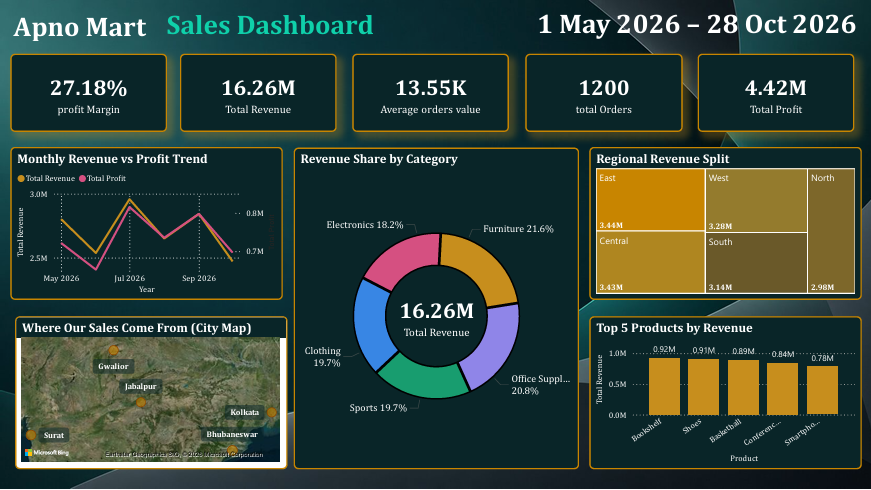

The page's visual inventory and layout, read from the dashboard file:
{"tool":"powerbi","page":{"name":"Revenue Overview","canvas":[1280,720],"ordinal":0},"visuals":[{"type":"card","fields":{"Values":["apnomart-sales-data.profit Margin"]},"box":[13.8,77.5,230,115],"z":0},{"type":"card","fields":{"Values":["apnomart-sales-data.total Orders"]},"box":[770,77.5,231.2,115],"z":1000},{"type":"card","fields":{"Values":["apnomart-sales-data.Total Profit"]},"box":[1022.5,77.5,230,115],"z":2000},{"type":"card","fields":{"Values":["apnomart-sales-data.Total Revenue"]},"box":[262.5,77.5,230,115],"z":3000},{"type":"card","fields":{"Values":["apnomart-sales-data.Average orders value"]},"box":[516.2,77.5,230,115],"z":4000},{"type":"lineChart","title":"Monthly Revenue vs Profit Trend","fields":{"Y":["apnomart-sales-data.Total Revenue"],"Y2":["apnomart-sales-data.Total Profit"],"Category":["apnomart-sales-data.Month.Variation.Date Hierarchy.Year","apnomart-sales-data.Month.Variation.Date Hierarchy.Month"]},"box":[13.8,215,400,225],"z":5000},{"type":"map","title":"Where Our Sales Come From (City Map)","fields":{"Category":["apnomart-sales-data.City"],"Size":["apnomart-sales-data.Total Revenue"]},"box":[21.2,463.8,400,225],"z":6000},{"type":"donutChart","title":"Revenue Share by Category","fields":{"Category":["apnomart-sales-data.Category"],"Y":["apnomart-sales-data.Total Revenue"]},"box":[430,216.2,418.8,472.5],"z":7000},{"type":"columnChart","title":"Top 5 Products by Revenue","fields":{"Category":["apnomart-sales-data.Product"],"Y":["apnomart-sales-data.Total Revenue"]},"box":[863.8,463.8,400,225],"z":8000},{"type":"treemap","title":"Regional Revenue Split","fields":{"Group":["apnomart-sales-data.Region"],"Values":["apnomart-sales-data.Total Revenue"]},"box":[863.8,215,400,225],"z":9000},{"type":"textbox","title":"Apno Mart","box":[13.6,13.6,207.6,45.5],"z":10000},{"type":"textbox","title":"Sales Dashboard","box":[237.9,10.6,316.7,50],"z":11000},{"type":"textbox","title":"1 May 2026 – 28 Oct 2026","box":[781.9,9.7,481.9,50],"z":12000},{"type":"card","fields":{"Values":["apnomart-sales-data.Total Revenue"]},"box":[573.8,415,132.5,97.5],"z":13000}]}

Visuals, with their boxes in screenshot pixels (x1, y1, x2, y2), scaled from the page's 1280x720 canvas onto the 871x490 screenshot:
card - apnomart-sales-data.profit Margin: bbox(9, 53, 166, 131)
card - apnomart-sales-data.total Orders: bbox(524, 53, 681, 131)
card - apnomart-sales-data.Total Profit: bbox(696, 53, 852, 131)
card - apnomart-sales-data.Total Revenue: bbox(179, 53, 335, 131)
card - apnomart-sales-data.Average orders value: bbox(351, 53, 508, 131)
"Monthly Revenue vs Profit Trend" lineChart: bbox(9, 146, 282, 299)
"Where Our Sales Come From (City Map)" map: bbox(14, 316, 287, 469)
"Revenue Share by Category" donutChart: bbox(293, 147, 578, 469)
"Top 5 Products by Revenue" columnChart: bbox(588, 316, 860, 469)
"Regional Revenue Split" treemap: bbox(588, 146, 860, 299)
"Apno Mart" textbox: bbox(9, 9, 151, 40)
"Sales Dashboard" textbox: bbox(162, 7, 377, 41)
"1 May 2026 – 28 Oct 2026" textbox: bbox(532, 7, 860, 41)
card - apnomart-sales-data.Total Revenue: bbox(390, 282, 481, 349)
